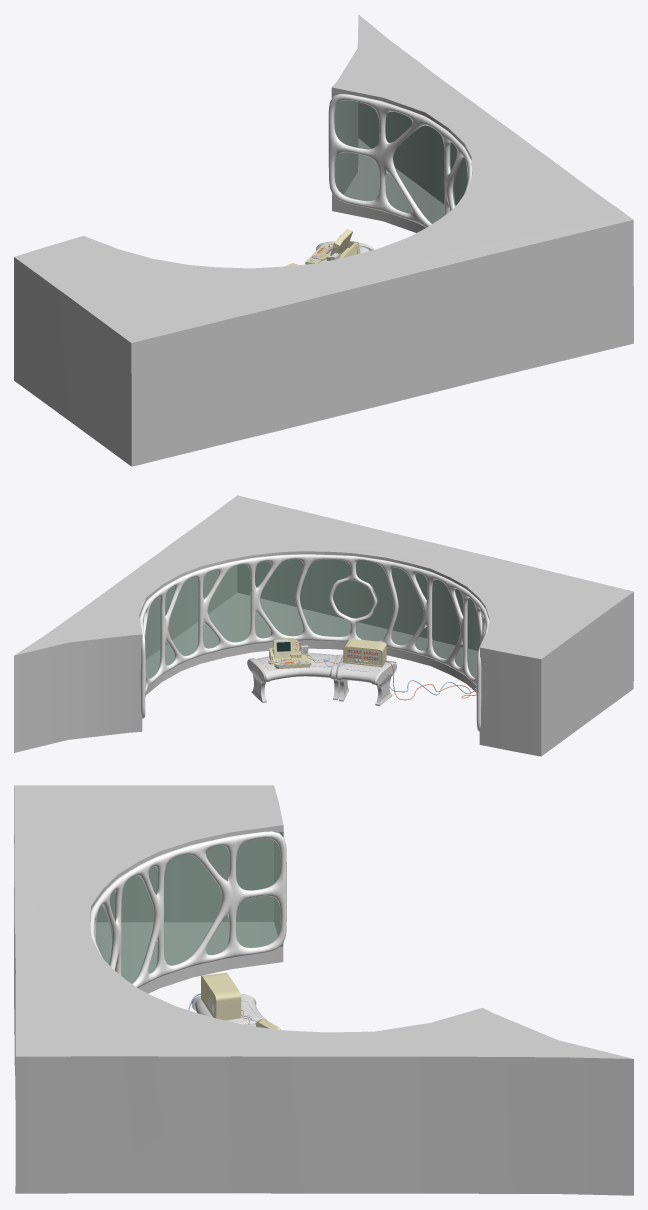
File: tableau de board final_aquarium.fbx
3 renders of one model, top to bottom at view 1: azimuth 30°, elevation 25°; view 2: azimuth 150°, elevation 25°; view 3: azimuth 270°, elevation 25°, orthographic. The views are drawn at different scales.
Parts seen in each view (by area): view 1: aquarium_fin.001, Grille 01.001, ordi_final.001; view 2: aquarium_fin.001, Grille 01.001, table.001, ordi_final.001, machine_electrocution.001; view 3: aquarium_fin.001, Grille 01.001, machine_electrocution.001, table.001.
Boxes of the visible parts, x1,y1,x2,y2 form: aquarium_fin.001: (14, 14, 633, 466); Grille 01.001: (328, 94, 471, 227); ordi_final.001: (305, 228, 360, 264); aquarium_fin.001: (14, 495, 633, 756); Grille 01.001: (139, 554, 489, 731); table.001: (247, 653, 396, 706); ordi_final.001: (268, 638, 311, 668); machine_electrocution.001: (343, 639, 386, 667); aquarium_fin.001: (14, 785, 633, 1195); Grille 01.001: (90, 831, 286, 987); machine_electrocution.001: (201, 973, 241, 1020); table.001: (191, 994, 266, 1026).
Size of the model in its own units: 12.42 by 11.89 by 2.91.
